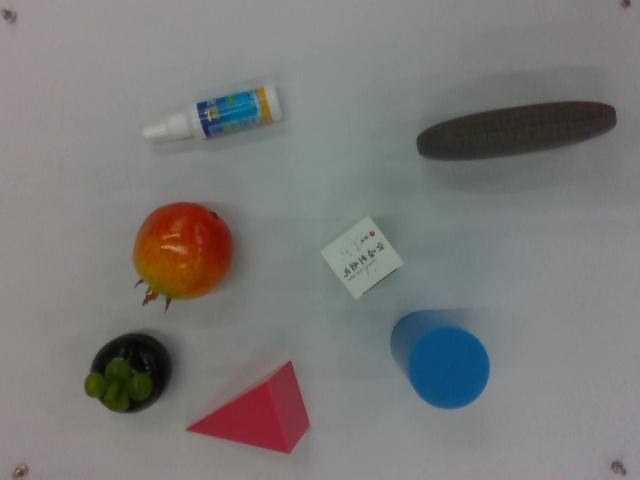carton: (320, 212, 405, 305)
cylinder: (390, 307, 492, 411)
detergent: (137, 77, 288, 152)
glassescase: (416, 90, 616, 165)
mangosteen: (82, 329, 175, 415)
pomegranate: (128, 202, 235, 315)
pyramid: (184, 358, 313, 455)
